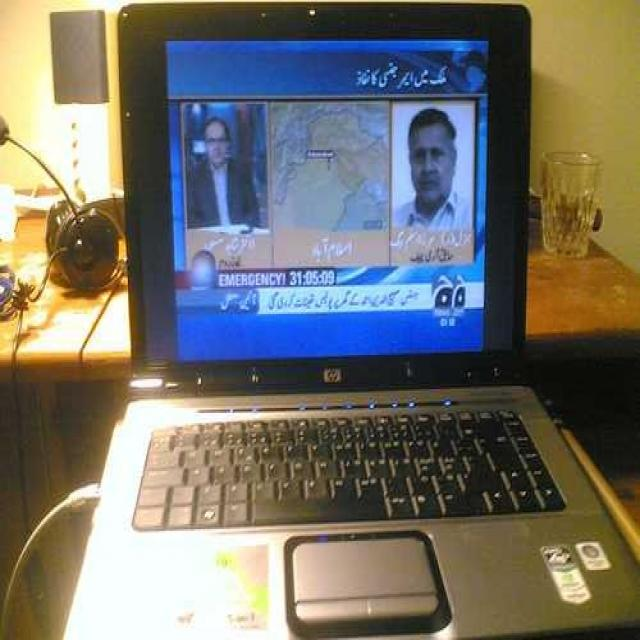laptop: (105, 10, 640, 640)
